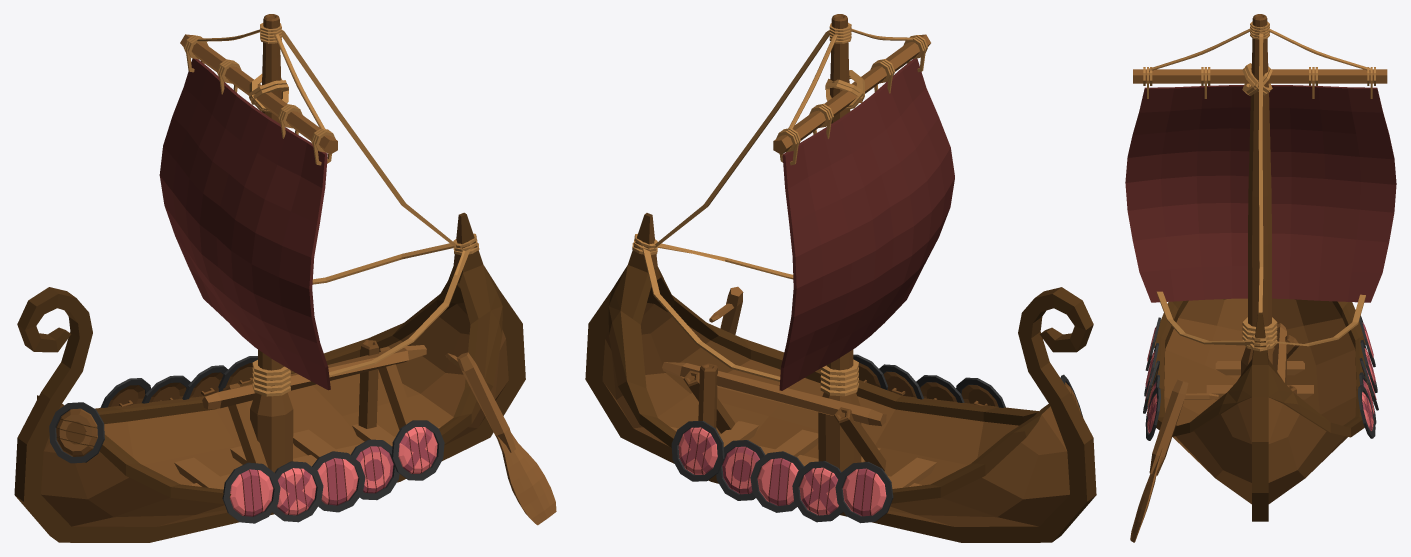
Rendered from D_Knarr_Red.fbx.
3 renders of one model, left to right at view 1: azimuth 30°, elevation 25°; view 2: azimuth 150°, elevation 25°; view 3: azimuth 270°, elevation 25°, orthographic. The views are drawn at different scales.
Visible parts, largest first — view 1: D_Knarr_Red, D_Knarr__Sail_Red, D_Knarr_B_Oar.002; view 2: D_Knarr_Red, D_Knarr__Sail_Red, D_Knarr_B_Oar.002; view 3: D_Knarr__Sail_Red, D_Knarr_Red, D_Knarr_B_Oar.002.
Boxes of the visible parts, x1,y1,x2,y2 form: D_Knarr_Red: (14, 14, 525, 542); D_Knarr__Sail_Red: (159, 58, 330, 390); D_Knarr_B_Oar.002: (445, 352, 556, 525); D_Knarr_Red: (585, 14, 1096, 542); D_Knarr__Sail_Red: (779, 58, 954, 390); D_Knarr_B_Oar.002: (709, 286, 743, 334); D_Knarr__Sail_Red: (1125, 85, 1396, 302); D_Knarr_Red: (1133, 14, 1387, 521); D_Knarr_B_Oar.002: (1130, 379, 1218, 542).
Size of the model in its own units: 703 by 671 by 374.
